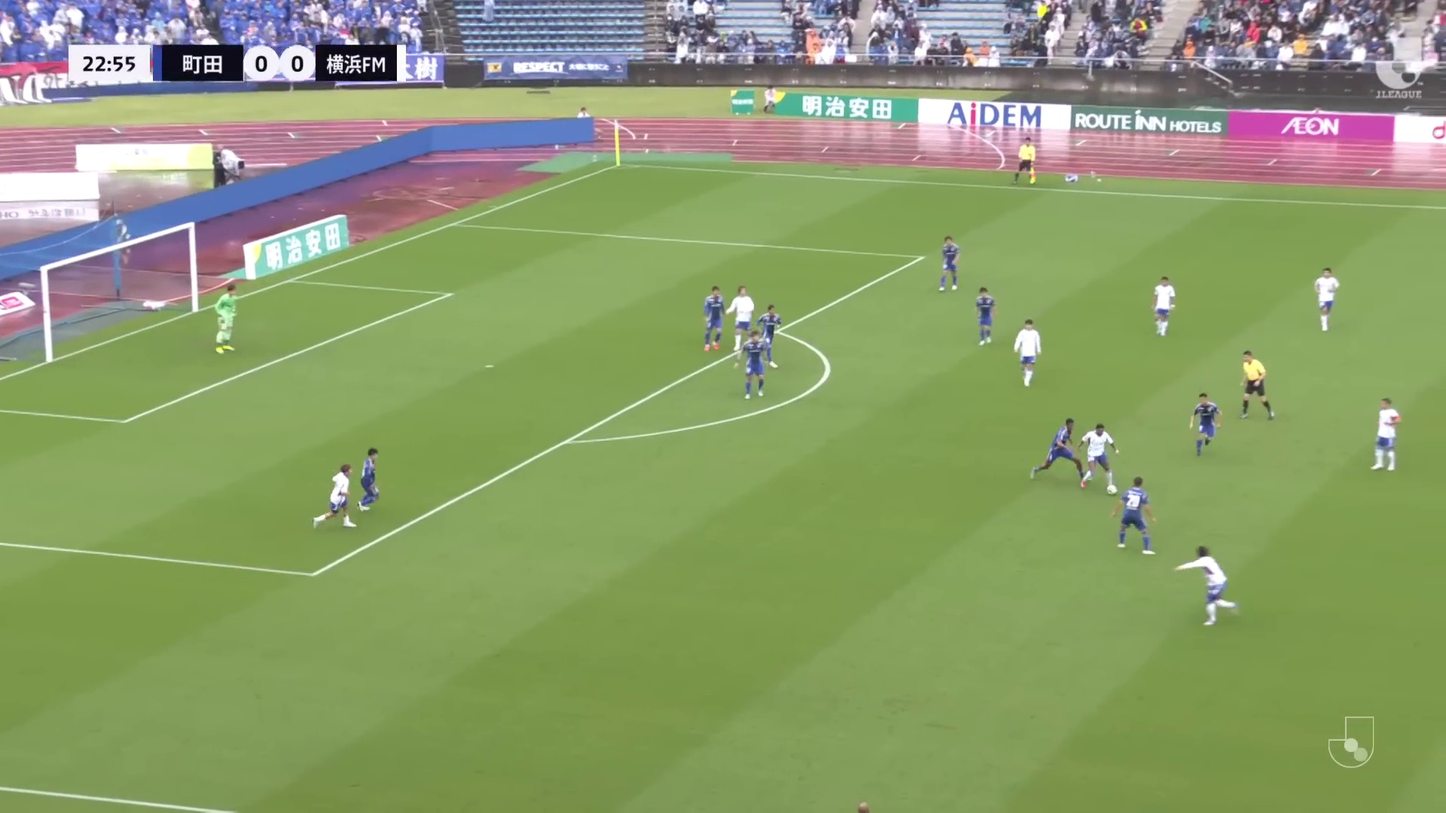ball: (1107, 484, 1117, 497)
player: (1173, 544, 1243, 628), (1029, 415, 1085, 486), (1111, 476, 1158, 556), (1076, 420, 1122, 492), (310, 463, 358, 532), (1369, 396, 1404, 473), (1187, 392, 1224, 458), (211, 284, 244, 356), (737, 330, 770, 401), (1012, 319, 1044, 389), (353, 447, 385, 514), (726, 285, 757, 353), (1311, 266, 1342, 333), (1149, 275, 1179, 338), (971, 286, 1000, 348), (700, 286, 727, 352), (756, 303, 783, 369), (936, 235, 964, 293)
referee: (1236, 349, 1278, 422), (1011, 137, 1040, 188)
